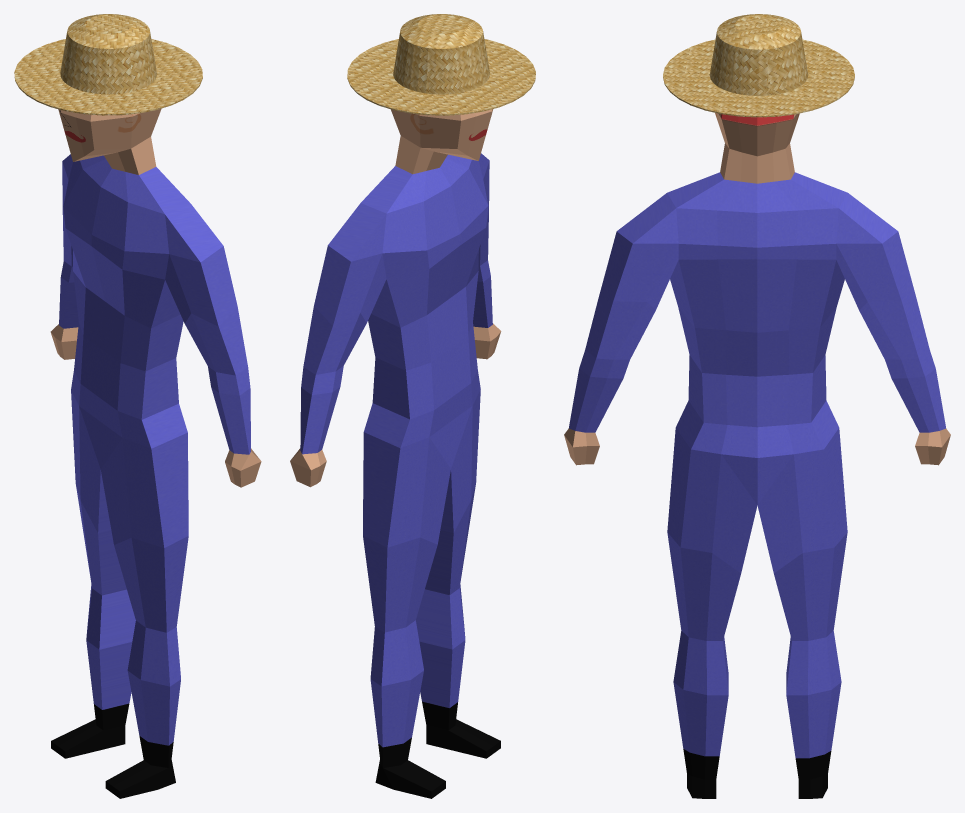
Rendered from Colono - Ruivo.fbx.
3 renders of one model, left to right at view 1: azimuth 30°, elevation 25°; view 2: azimuth 150°, elevation 25°; view 3: azimuth 270°, elevation 25°, orthographic.
Visible parts, largest first — view 1: colono, chapeuDePalha; view 2: colono, chapeuDePalha; view 3: colono, chapeuDePalha.
Part boxes in pixels (x1,y1,x2,y2): colono: [50, 108, 261, 798]; chapeuDePalha: [14, 14, 202, 115]; colono: [290, 109, 501, 798]; chapeuDePalha: [347, 14, 535, 115]; colono: [564, 113, 950, 798]; chapeuDePalha: [663, 14, 854, 117].
Size of the model in its own units: 92.04 by 399 by 185.
